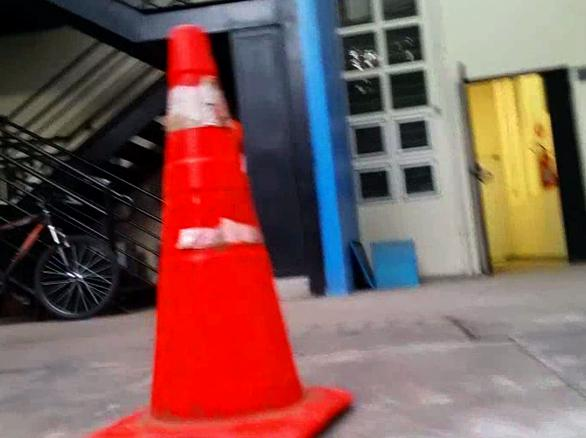0 cone: (82, 23, 354, 438)
